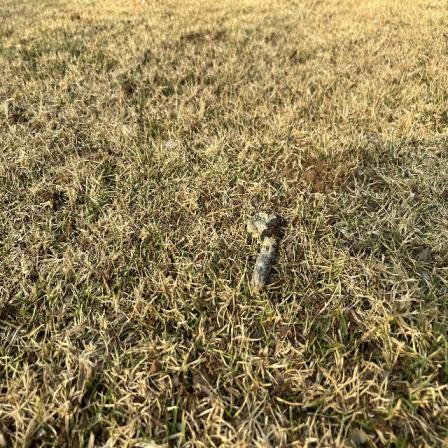dog-poop: (242, 208, 291, 291)
